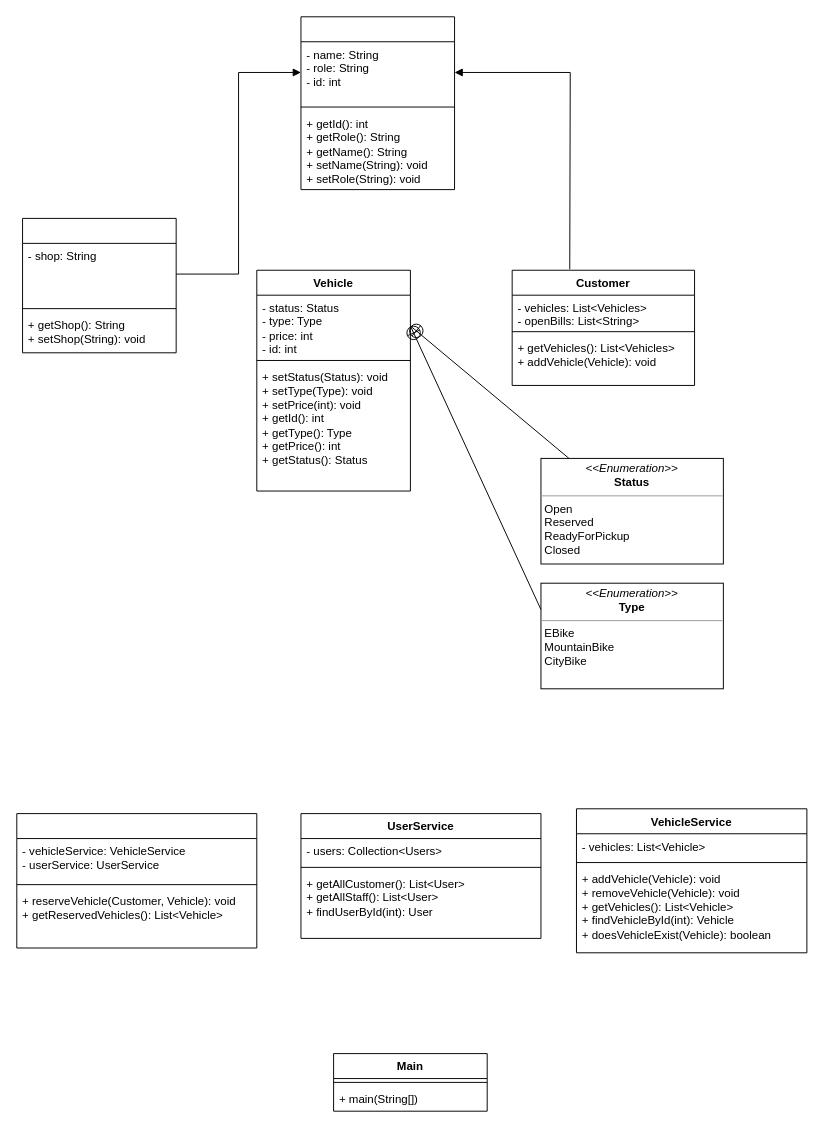
This 824x1131 diagram has some shape labels left out. Here are the shapes that lost their labels. From the top down, the box of each, then its label:
(300, 16, 455, 190): User
(22, 217, 176, 353): Staff
(16, 813, 257, 948): StorageService
